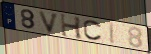8: (128, 26, 144, 49), (20, 9, 37, 30)
C: (83, 19, 103, 42)
H: (59, 12, 83, 41)
I: (110, 22, 116, 45)
V: (38, 10, 61, 35)
